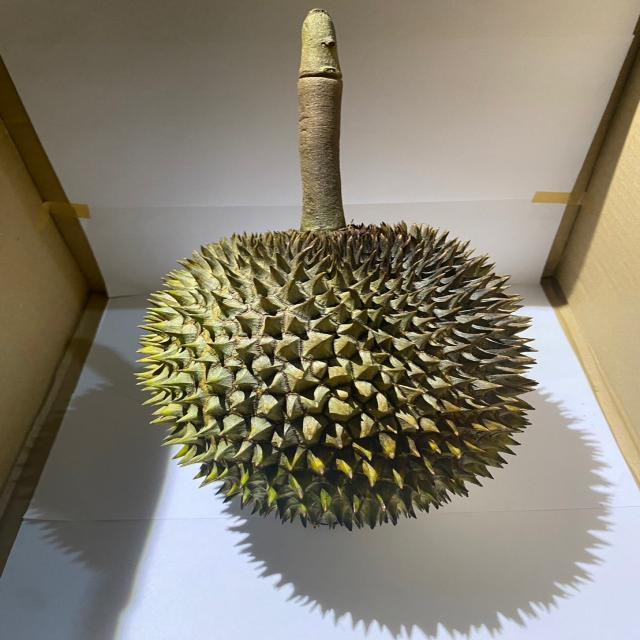immature: (141, 221, 541, 541)
